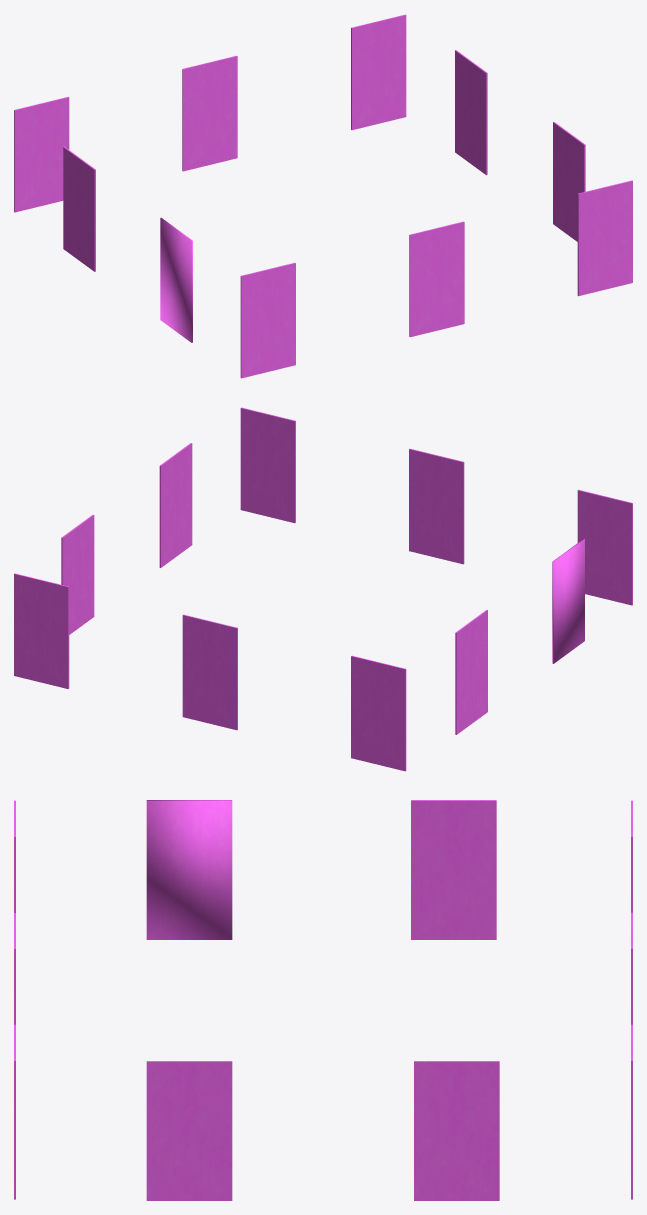
The model's file is portals.gltf.
3 views of the same model, one above another, from view 1: azimuth 30°, elevation 25°; view 2: azimuth 150°, elevation 25°; view 3: azimuth 270°, elevation 25° (orthographic). The views are drawn at different scales.
Parts seen in each view (by area): view 1: Plane.008; view 2: Plane.008; view 3: Plane.008.
Part boxes in pixels (x1=…): Plane.008: x1=14, y1=14, x2=632, y2=378; Plane.008: x1=14, y1=407, x2=632, y2=771; Plane.008: x1=14, y1=800, x2=632, y2=1200.
Bounding box in the file's own units: 48.05 × 11.89 × 48.02.
1 material, 1 textured.
